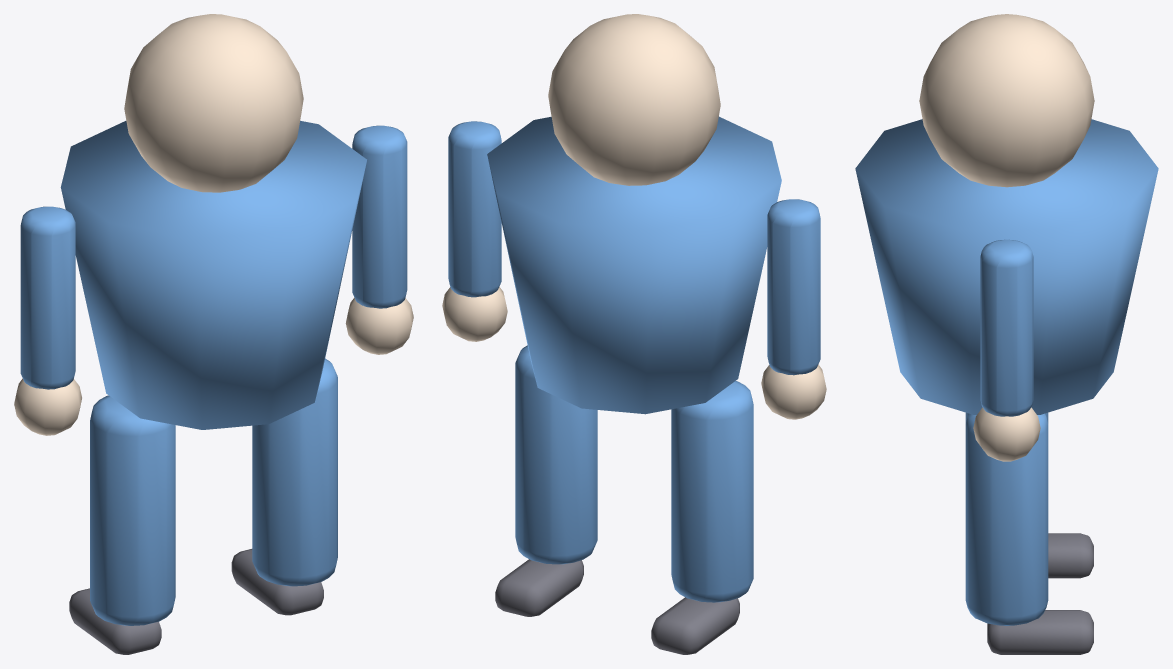
Rendered from mii_tenant_male.glb.
The picture shows the model from 3 angles, left to right: view 1: azimuth 30°, elevation 25°; view 2: azimuth 150°, elevation 25°; view 3: azimuth 270°, elevation 25°; orthographic projection. The views are drawn at different scales.
Parts seen in each view (by area): view 1: Torso, Head, Leg_L, Leg_R, Arm_L, Arm_R, Hand_R, Hand_L, Foot_R, Foot_L; view 2: Torso, Head, Leg_L, Leg_R, Arm_L, Arm_R, Foot_L, Foot_R, Hand_R, Hand_L; view 3: Torso, Head, Leg_R, Arm_R, Foot_R, Hand_R, Foot_L.
Part boxes in pixels (left/top/right/bottom): Torso: left=60, top=121, right=366, bottom=429; Head: left=124, top=14, right=303, bottom=192; Leg_L: left=90, top=395, right=175, bottom=625; Leg_R: left=252, top=358, right=337, bottom=586; Arm_L: left=20, top=206, right=75, bottom=389; Arm_R: left=352, top=125, right=407, bottom=308; Hand_R: left=345, top=297, right=413, bottom=354; Hand_L: left=14, top=378, right=81, bottom=435; Foot_R: left=231, top=549, right=323, bottom=615; Foot_L: left=69, top=588, right=161, bottom=654; Torso: left=487, top=116, right=781, bottom=414; Head: left=548, top=14, right=720, bottom=185; Leg_L: left=671, top=381, right=753, bottom=602; Leg_R: left=515, top=345, right=597, bottom=564; Arm_L: left=767, top=199, right=820, bottom=375; Arm_R: left=448, top=121, right=501, bottom=297; Foot_L: left=651, top=597, right=739, bottom=654; Foot_R: left=495, top=559, right=583, bottom=616; Hand_R: left=442, top=287, right=507, bottom=341; Hand_L: left=761, top=365, right=826, bottom=419; Torso: left=855, top=119, right=1158, bottom=414; Head: left=919, top=14, right=1094, bottom=187; Leg_R: left=965, top=413, right=1048, bottom=625; Arm_R: left=980, top=239, right=1033, bottom=416; Foot_R: left=987, top=610, right=1093, bottom=654; Hand_R: left=973, top=407, right=1040, bottom=461; Foot_L: left=1048, top=533, right=1093, bottom=578.
Bounding box in the file's own units: 0.3871 × 0.5783 × 0.27.
